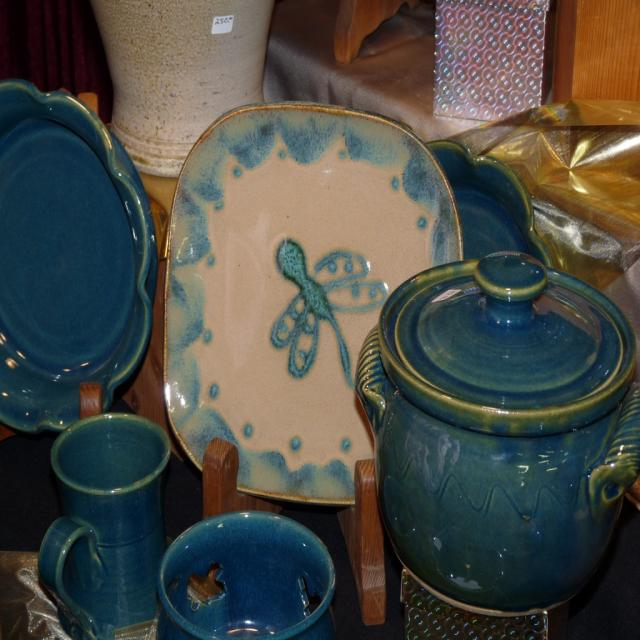non-organic waste: (153, 107, 479, 558)
